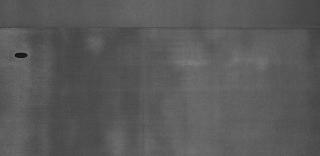punching hole: (12, 51, 30, 61)
welding line: (2, 23, 318, 33)
